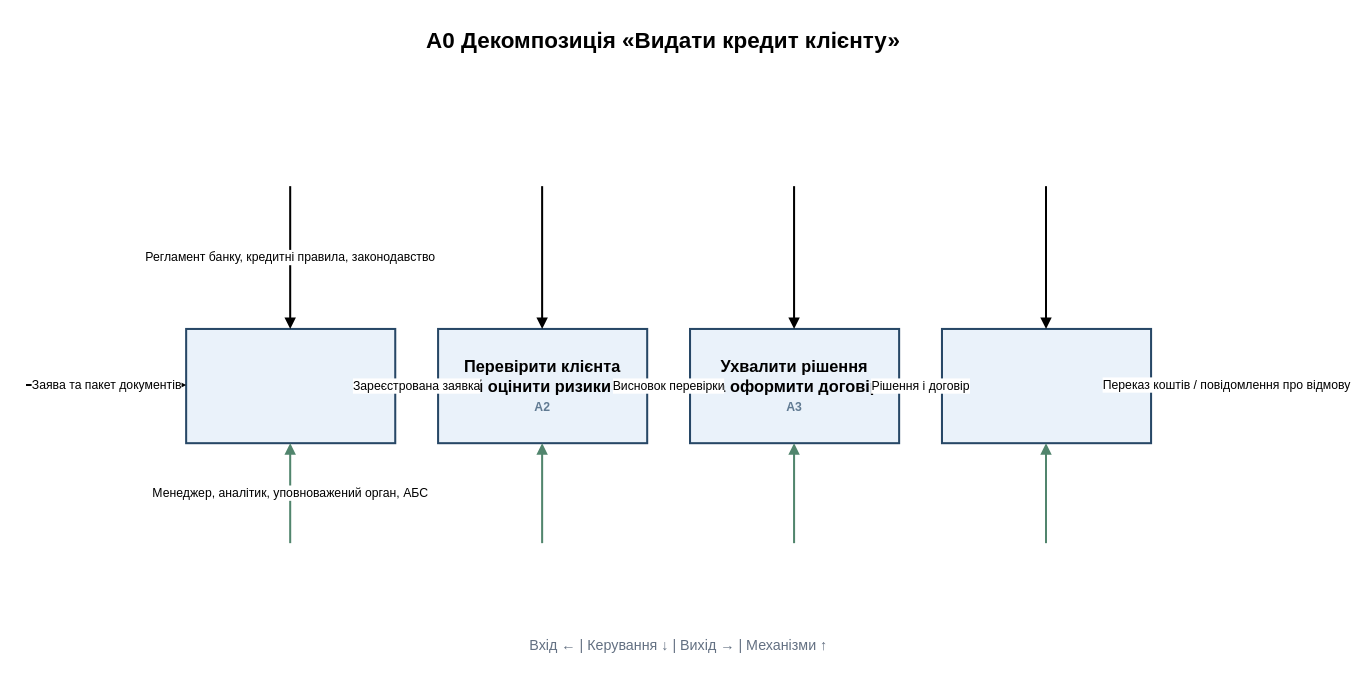
The diagram is 1368 pixels wide and 682 high, and some of its shapes have lost their labels. The shapes that lost their labels are listed below. From the top down, each one's box as (x1, y1, x2, y2) in pixels, then its label:
(185, 327, 396, 444): Прийняти заявку та документи A1
(940, 327, 1152, 444): Видати кошти та зафіксувати кредит A4
